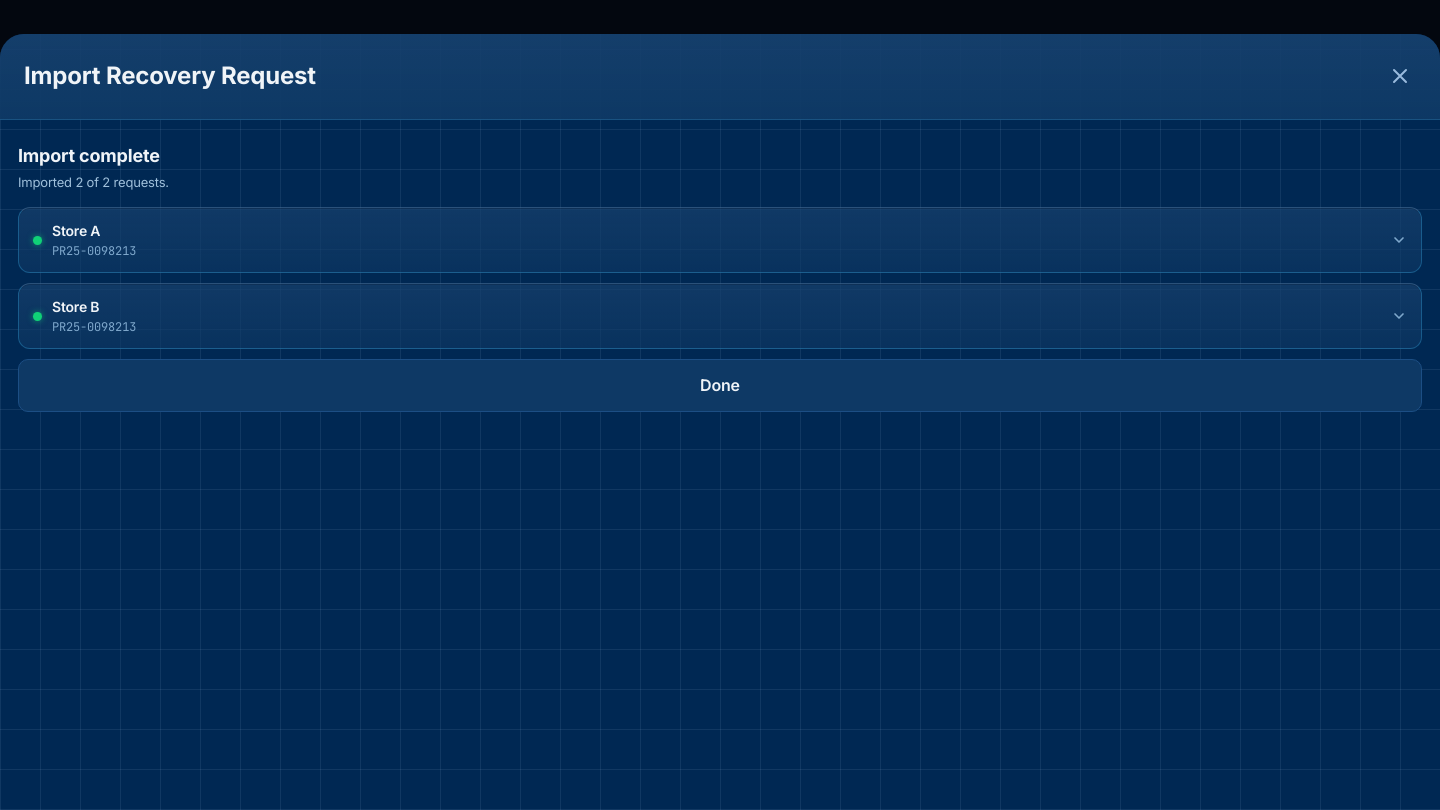
Test: ImportModal › batch success: summary + single-open accordions (expanding one reveals its detail)
Check: the text "Imported 2 of 2 requests." is shown, box [18, 174, 169, 190]
Check: the text "Requesting Officer" is not shown
Click the button "Store A PR25-0098213" at x=76, y=231, box [19, 208, 1421, 272]
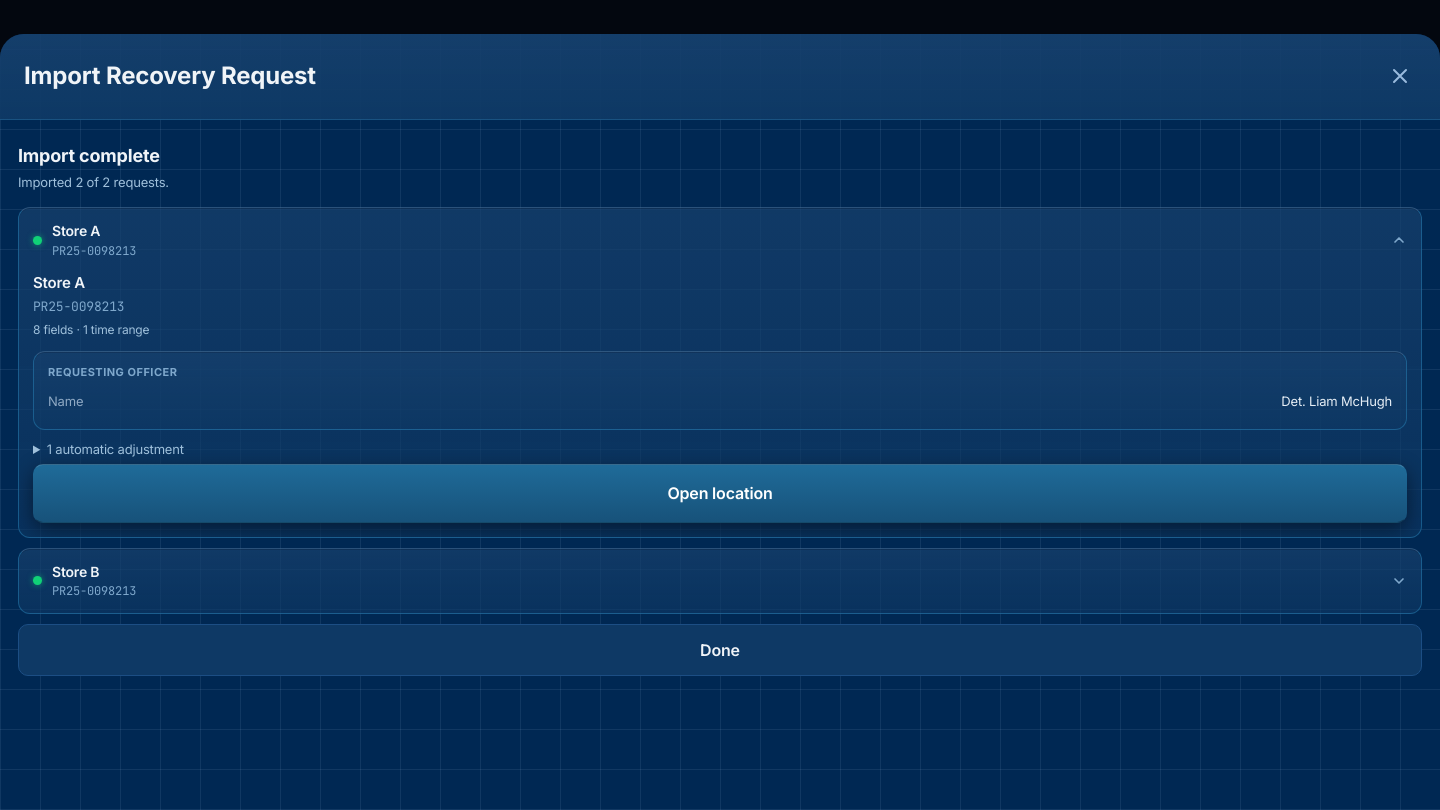
Check: the text "Requesting Officer" is shown, box [48, 366, 178, 380]
